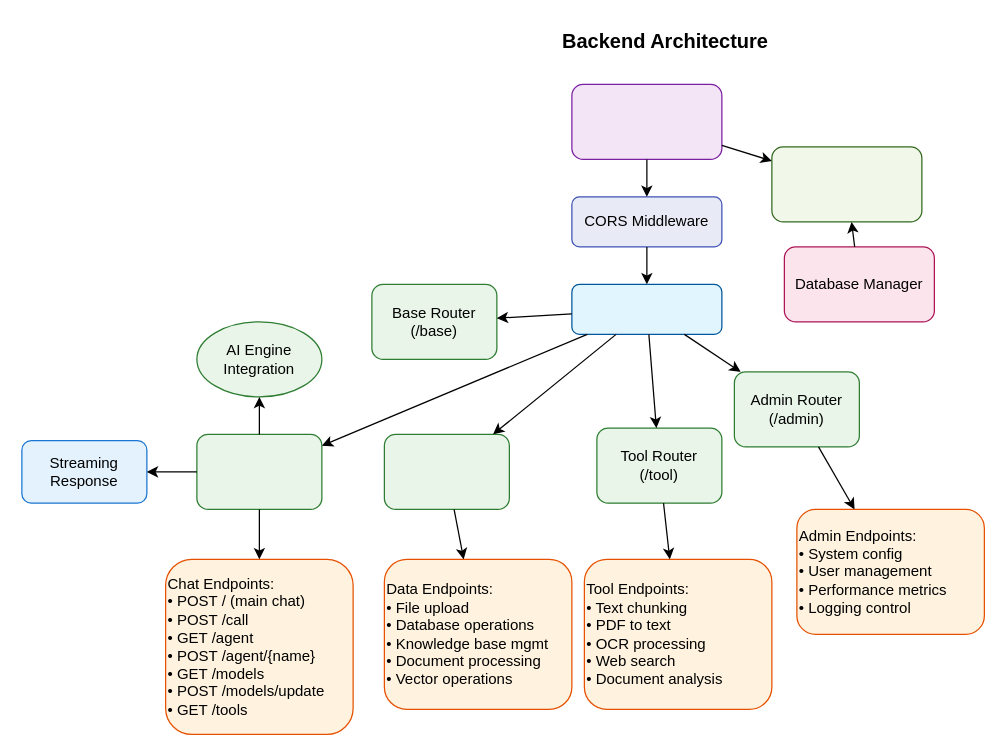
Some shapes in this 1006 by 756 pixel diagram are drawn without their labels. The shapes that lost their labels are listed below. From the top down, each one's box as (x1, y1, x2, y2) in pixels, then its label:
(571, 83, 722, 159): FastAPI App (main.py)
(771, 146, 922, 222): Data Models and Schemas
(571, 283, 722, 334): Router Manager
(196, 433, 322, 509): Chat Router (/chat)
(383, 433, 509, 509): Data Router (/data)
